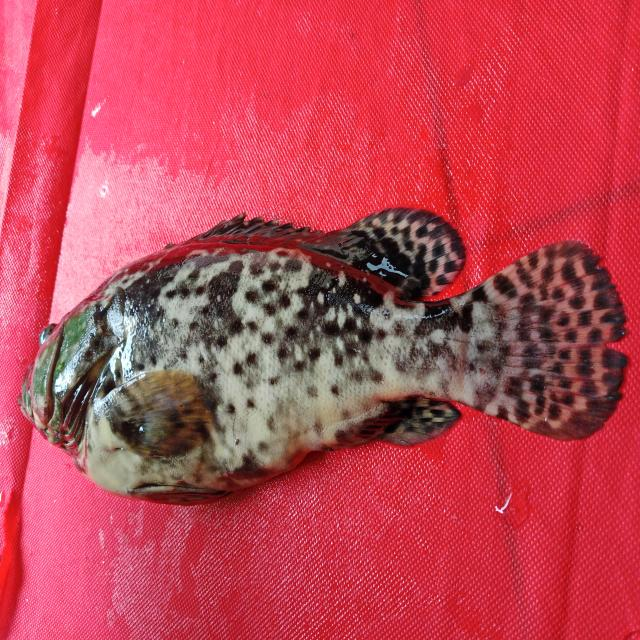ikan: (16, 202, 632, 511)
